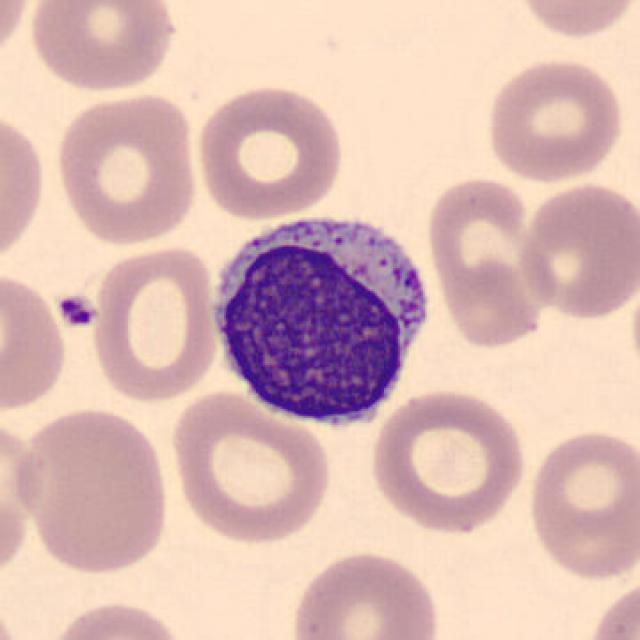Lymphocyte: (199, 199, 441, 437)
Platelets: (54, 289, 102, 332)
RBC: (12, 404, 174, 576), (166, 388, 334, 548), (366, 384, 530, 536), (49, 88, 202, 249), (423, 173, 553, 351), (190, 81, 347, 222), (87, 242, 222, 404), (482, 53, 628, 185), (523, 425, 638, 585), (514, 178, 638, 323), (23, 0, 181, 95), (286, 546, 444, 640), (0, 268, 71, 416), (0, 106, 50, 271), (0, 412, 46, 582), (41, 596, 188, 640), (512, 0, 640, 41), (579, 571, 640, 640), (0, 2, 34, 74), (0, 585, 25, 640)
